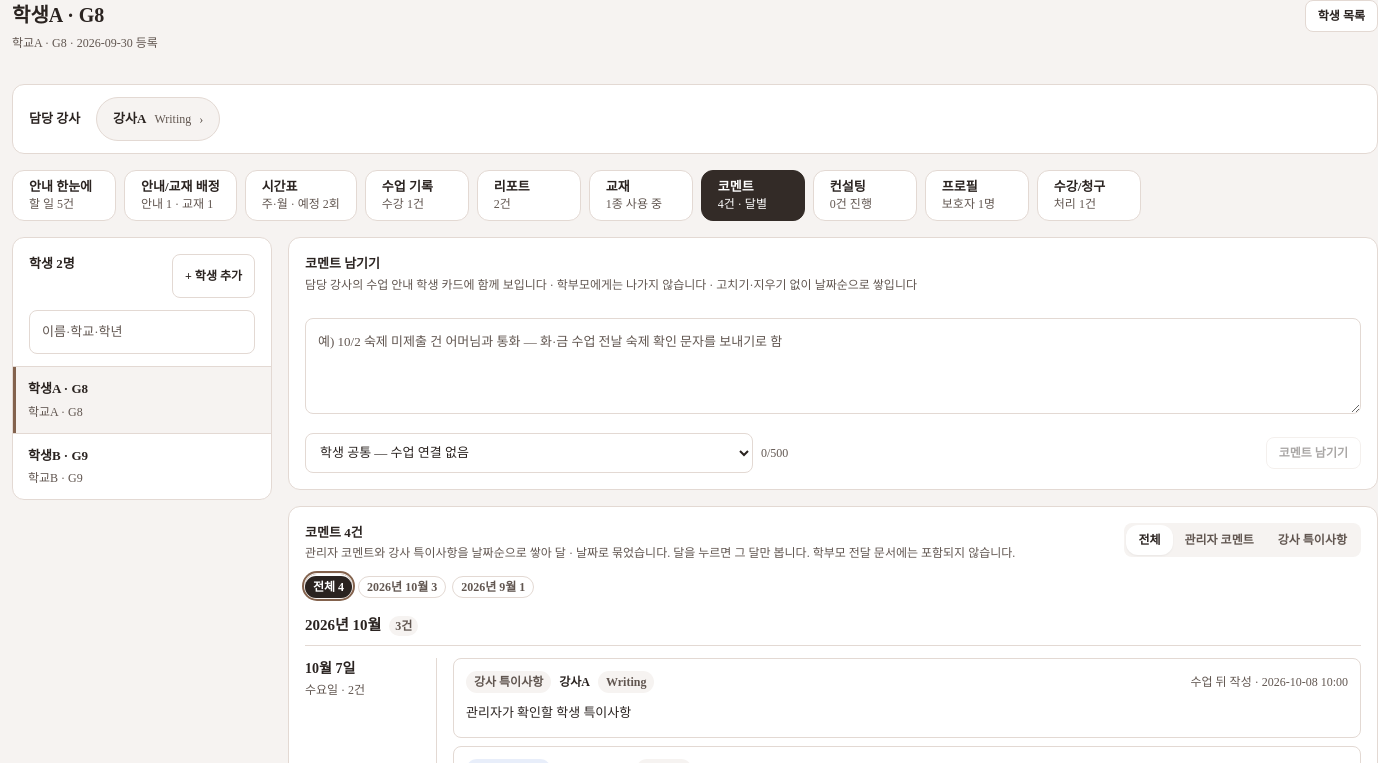
10/14 PPTX 수정본 화면 정합 (S5a) › p7 코멘트 탭은 바로 남기기·달 칩·달→날짜 묶음을 수정본 낱말로 보이고 강사 특이사항은 수업일에 쌓는다
Check: the heading "코멘트 남기기" is shown, box [305,256,380,271]
Check: the text "담당 강사의 수업 안내 학생 카드에 함께 보입니다 · 학부모에게는 나가지 않습니다 · 고치기·지우기 없이 날짜순으로 쌓입니다" is shown, box [305,276,917,294]
What coordinates should you click on to do the following:
click the button "2026년 9월 1"
I would click on:
 (493, 586)
Its box is [452,574,534,598].
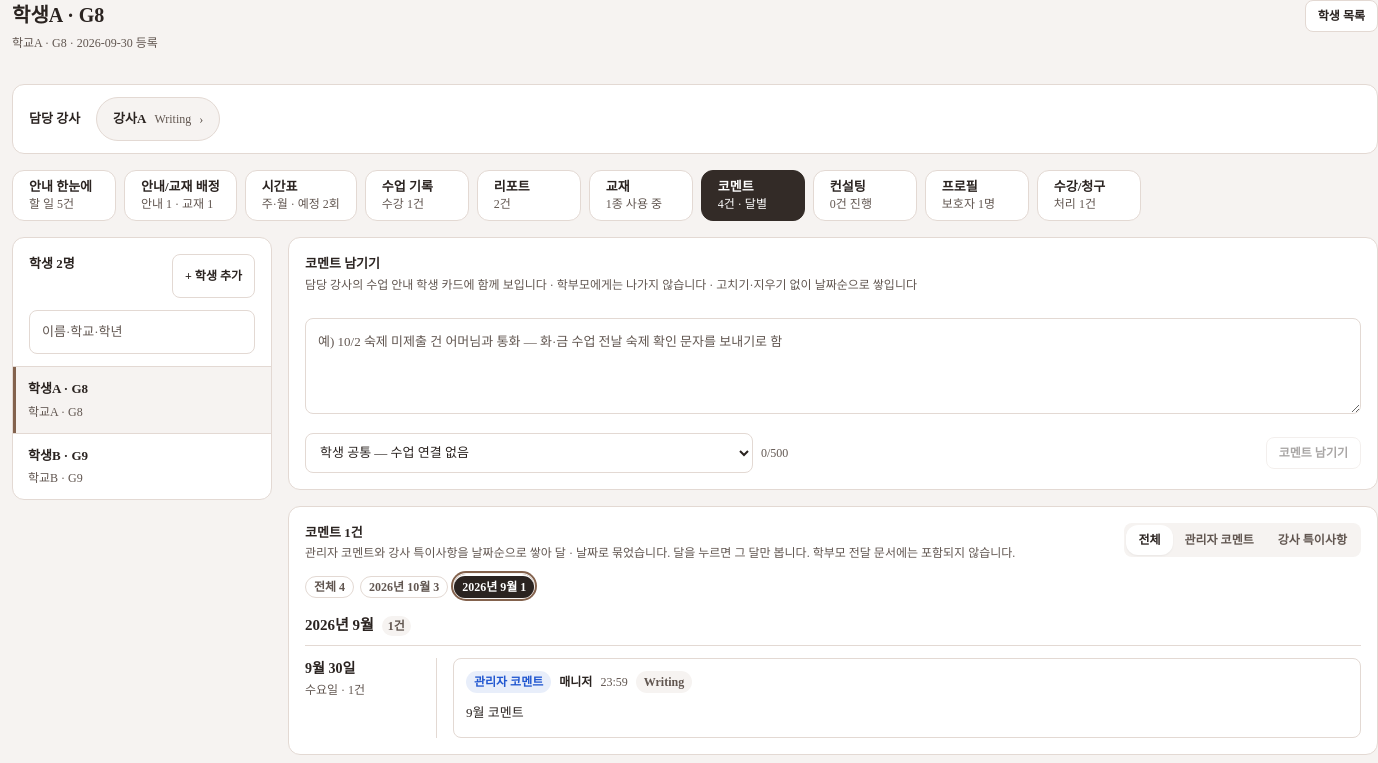
Check: the text "9월 코멘트" is shown, box [466,705,524,720]
Check: the text "관리자가 확인할 학생 특이사항" is gone
